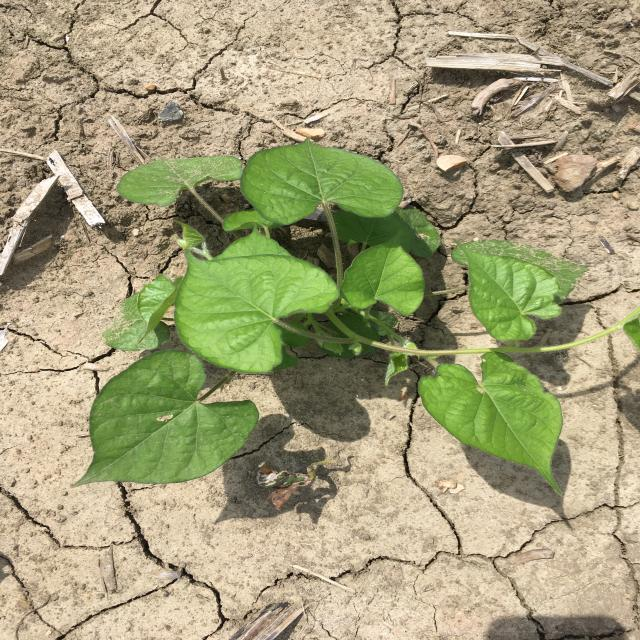MorningGlory: (71, 136, 639, 495)
